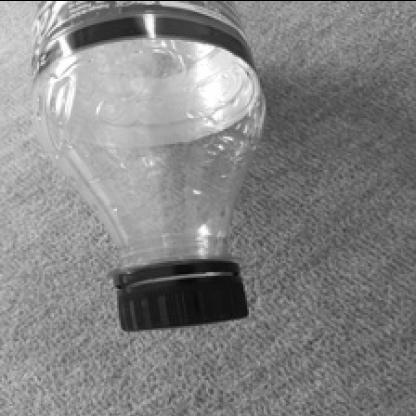plastic_bottles: (32, 0, 260, 328)
